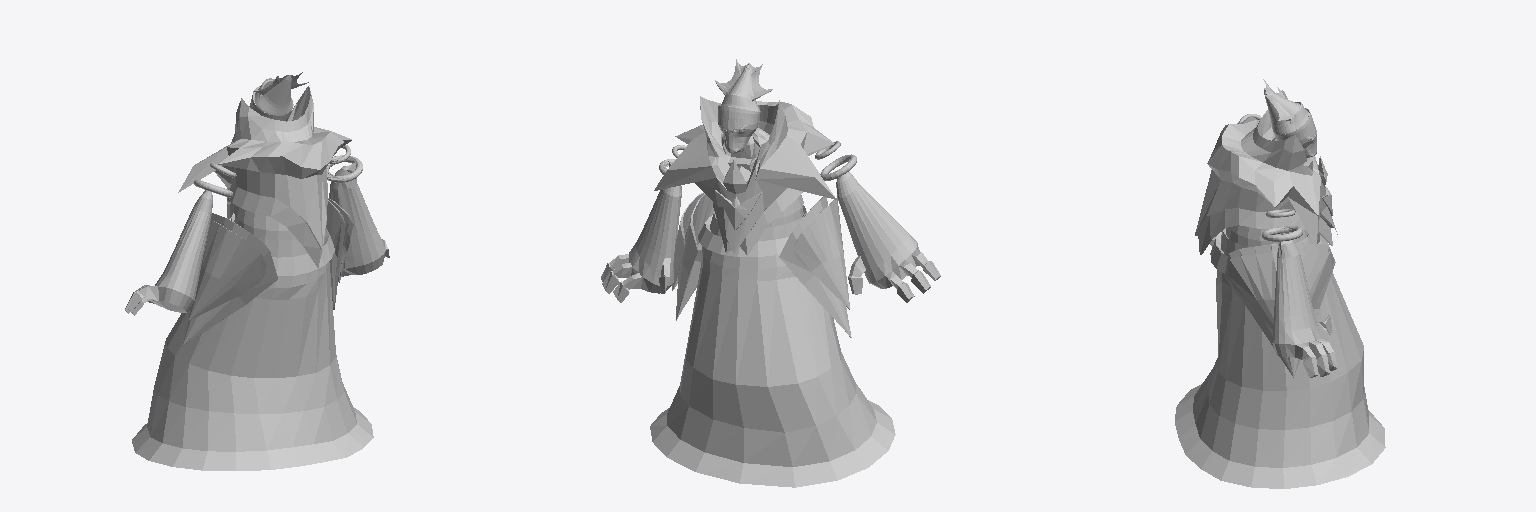
Rendered from RATH_IDLE_24FPS.0090.obj.
3 renders of one model, left to right at view 1: azimuth 30°, elevation 25°; view 2: azimuth 150°, elevation 25°; view 3: azimuth 270°, elevation 25°, orthographic.
Parts seen in each view (by area): view 1: pasted__pasted__pTorus3; view 2: pasted__pasted__pTorus3; view 3: pasted__pasted__pTorus3.
Part boxes in pixels (bbox=[...]): pasted__pasted__pTorus3: bbox=[125, 72, 389, 470]; pasted__pasted__pTorus3: bbox=[601, 59, 940, 487]; pasted__pasted__pTorus3: bbox=[1175, 79, 1385, 488].
Size of the model in its own units: 148 by 173 by 90.27.